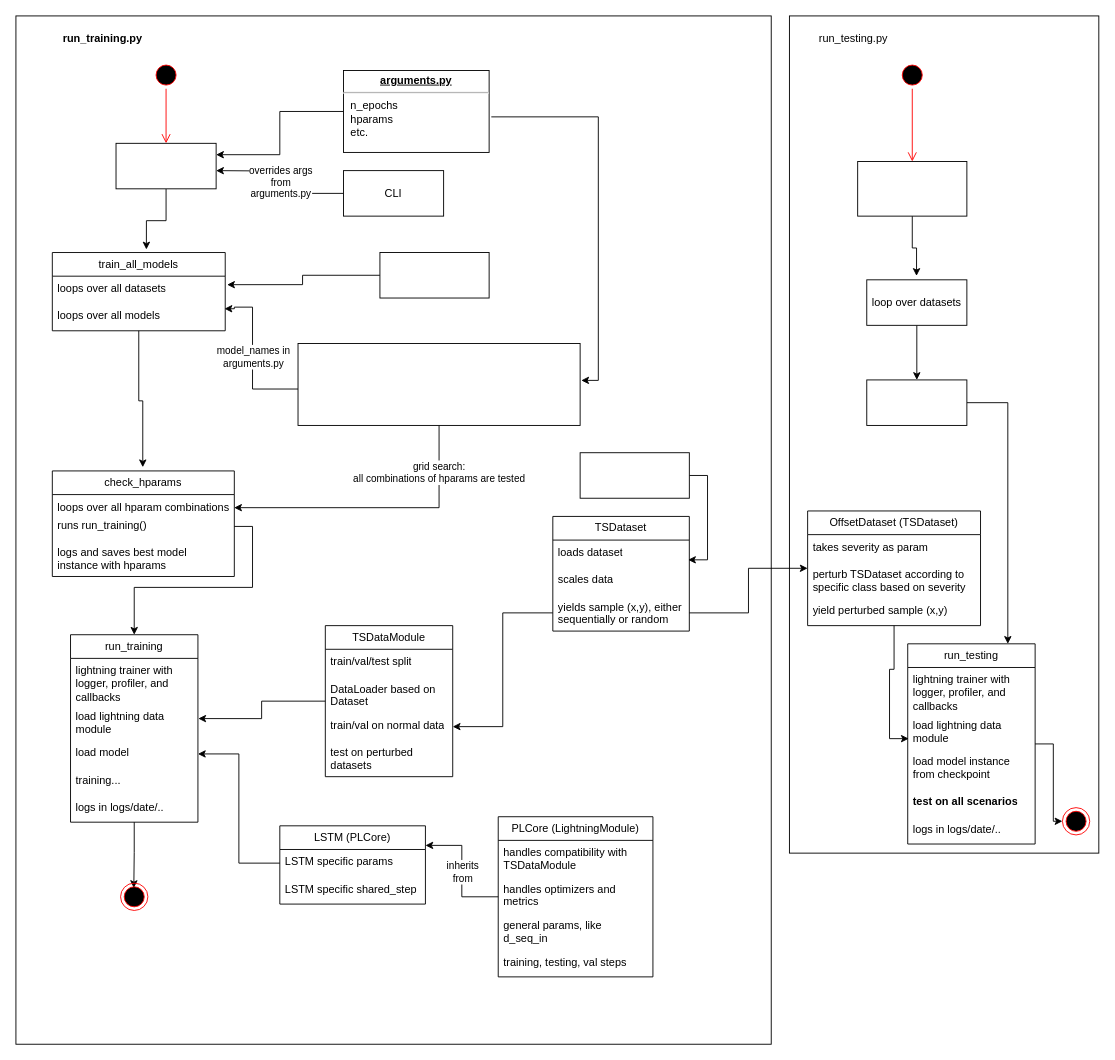
Image size: 1115x1060. Some labels were removed from this diagram. The shapes that lost their labels are listed below. From the top down, each one's centre as x and y in pixels, then its label:
the point at 165,165: ArgParser
the point at 912,188: read args
the point at 434,275: data names from data/processed/* and argparser
the point at 438,384: MLP = dict ( d_hidden_layers = [[ 128 ],[ 256 ]], batch_norm = [ False ], )
the point at 916,402: test best model instance per model class via logdir
the point at 634,475: processed data in data/processed/
